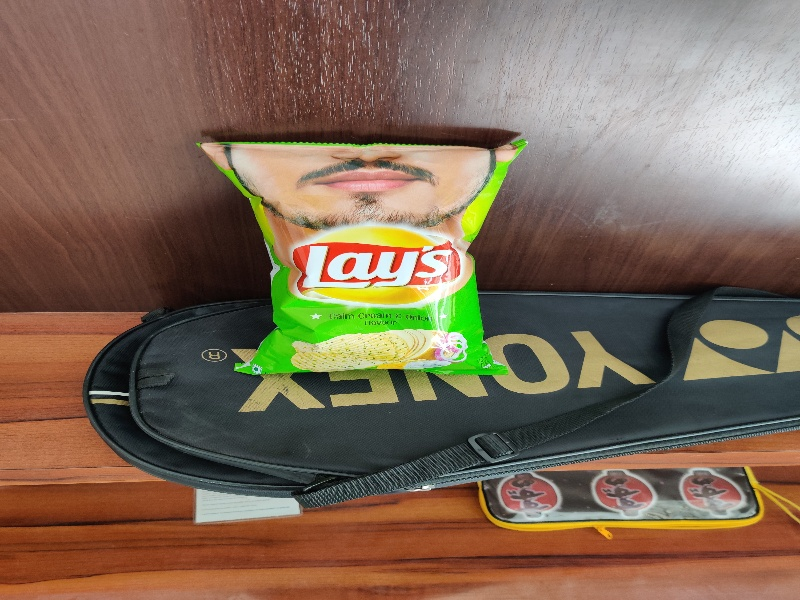lays: (186, 124, 522, 385)
